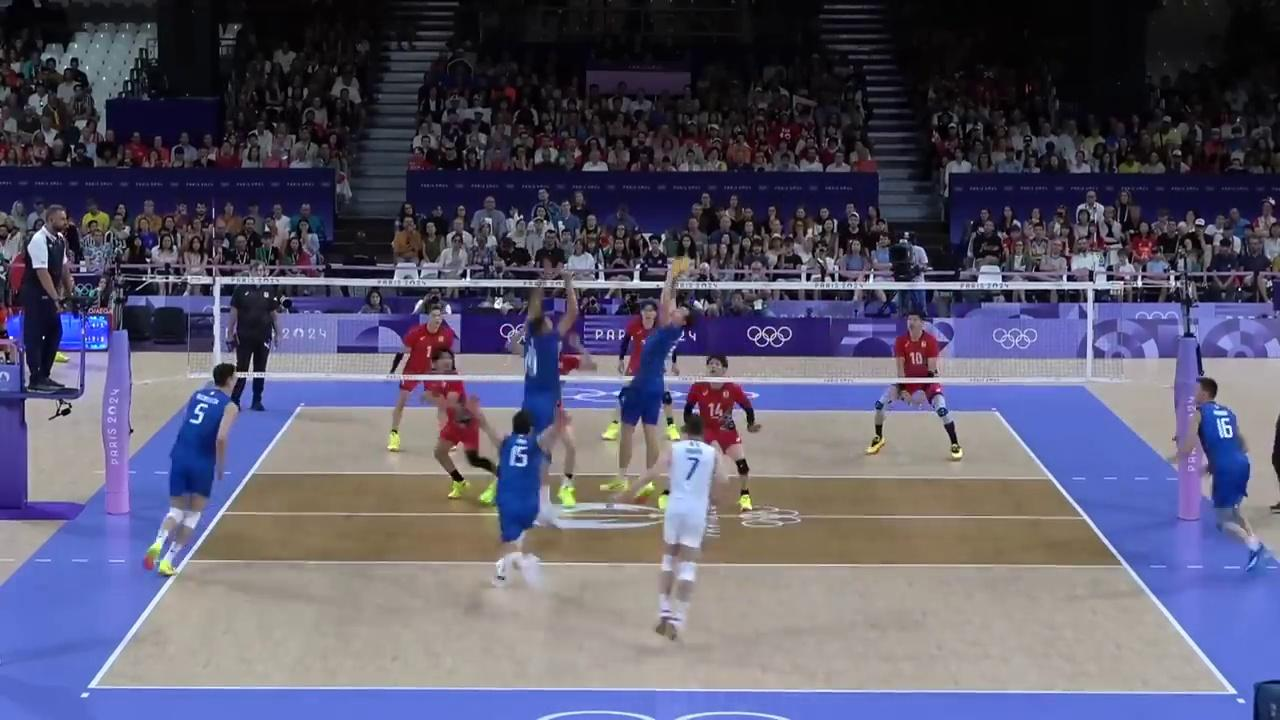ball: (671, 258, 692, 280)
